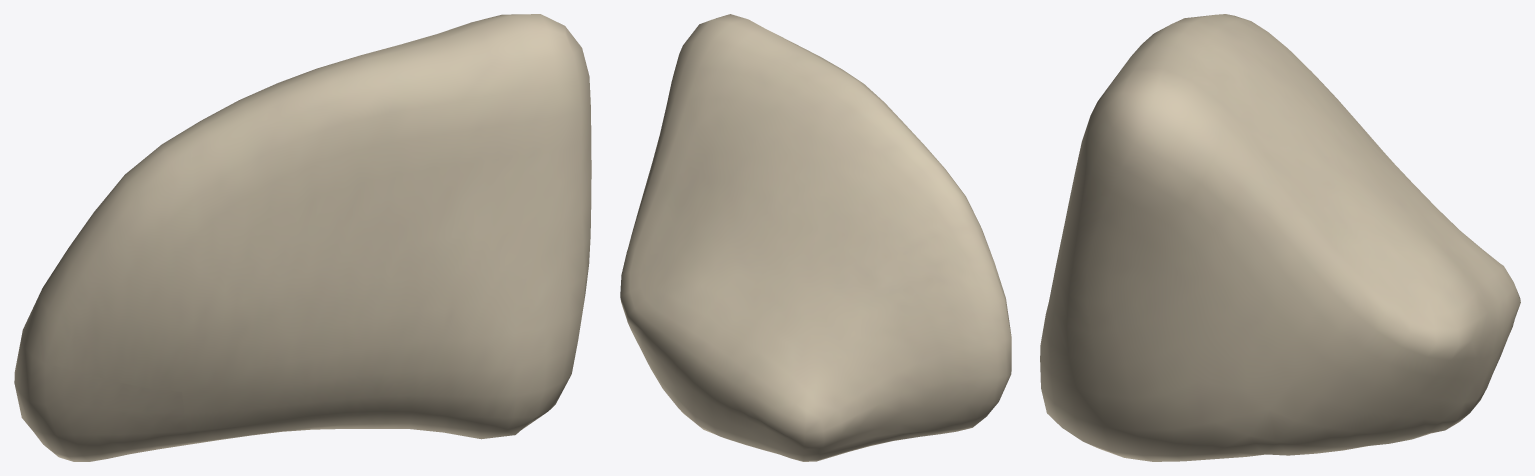
File: L carpale primum.fbx
3 renders of one model, left to right at view 1: azimuth 30°, elevation 25°; view 2: azimuth 150°, elevation 25°; view 3: azimuth 270°, elevation 25°, orthographic. The views are drawn at different scales.
Parts seen in each view (by area): view 1: L carpale primum; view 2: L carpale primum; view 3: L carpale primum.
Part boxes in pixels (x1,y1,x2,y2): L carpale primum: (14,14,591,461); L carpale primum: (620,14,1011,461); L carpale primum: (1040,14,1520,461).
Bounding box in the file's own units: 1.74 × 1.36 × 1.47.
